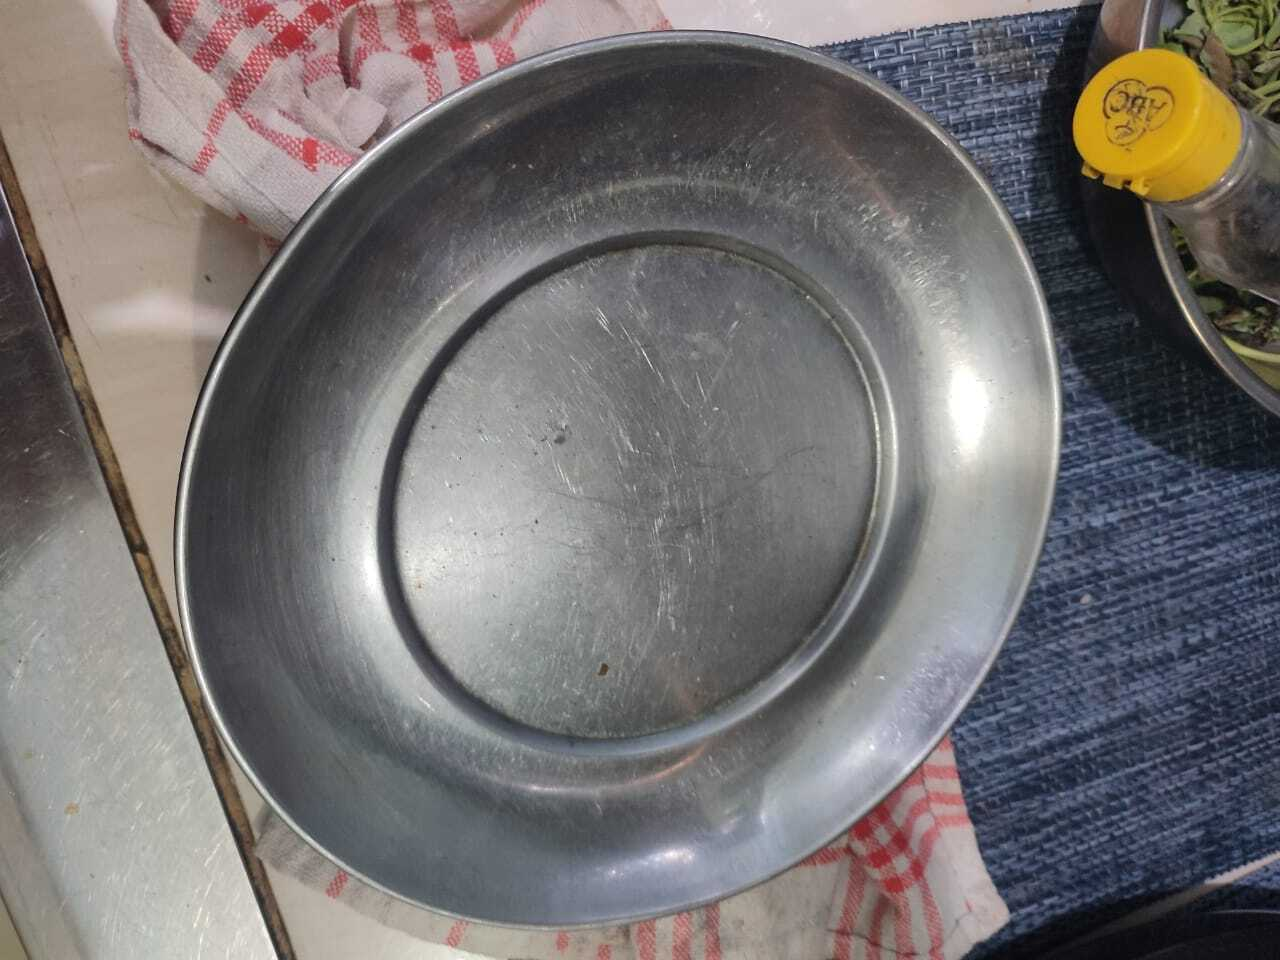piring: (167, 28, 1056, 925)
